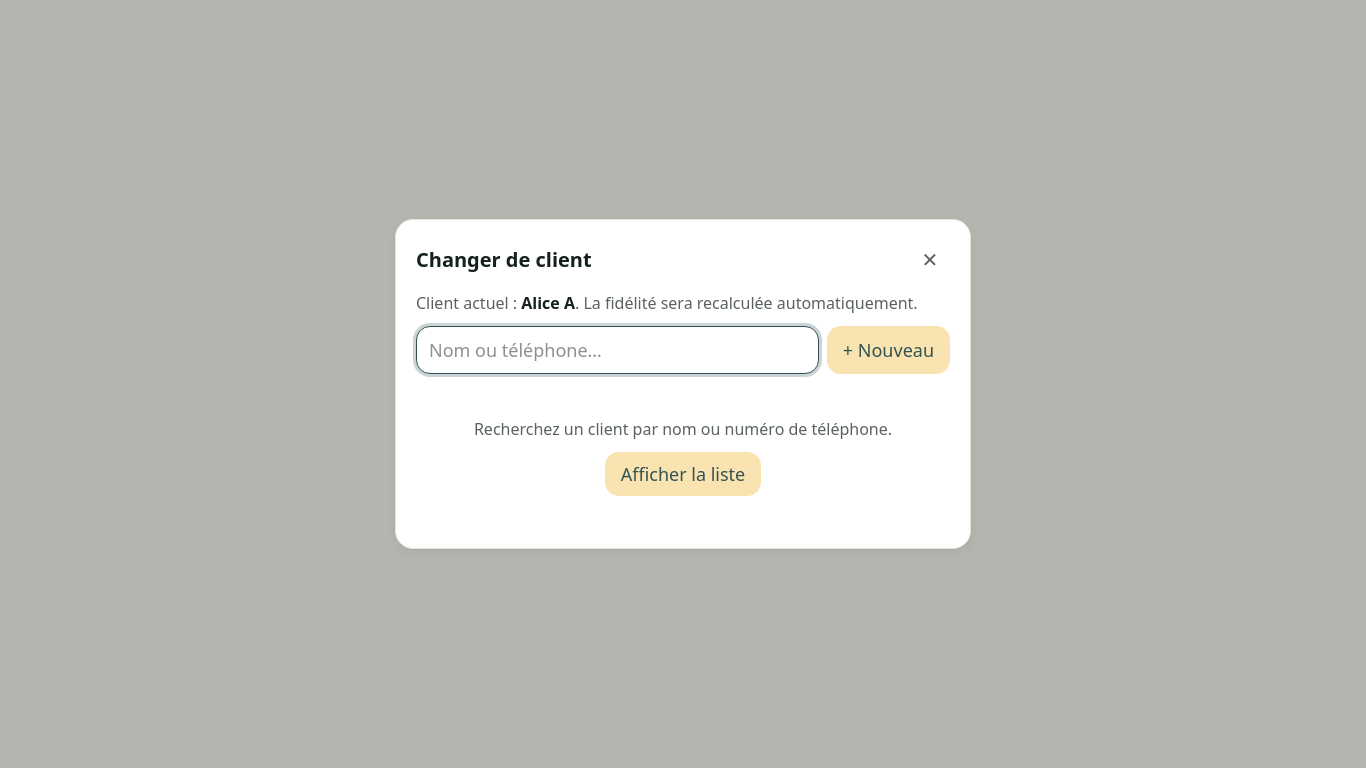
Test: Modale client post-vente (Ma Journée) › affiche un message clair quand une facture bloque le changement de client
The width and height of the screenshot is (1366, 768).
Type "Bob" into the field with placeholder "Nom ou téléphone…".
click(617, 350); type("Bob")  # box x1=416 y1=326 x2=819 y2=374
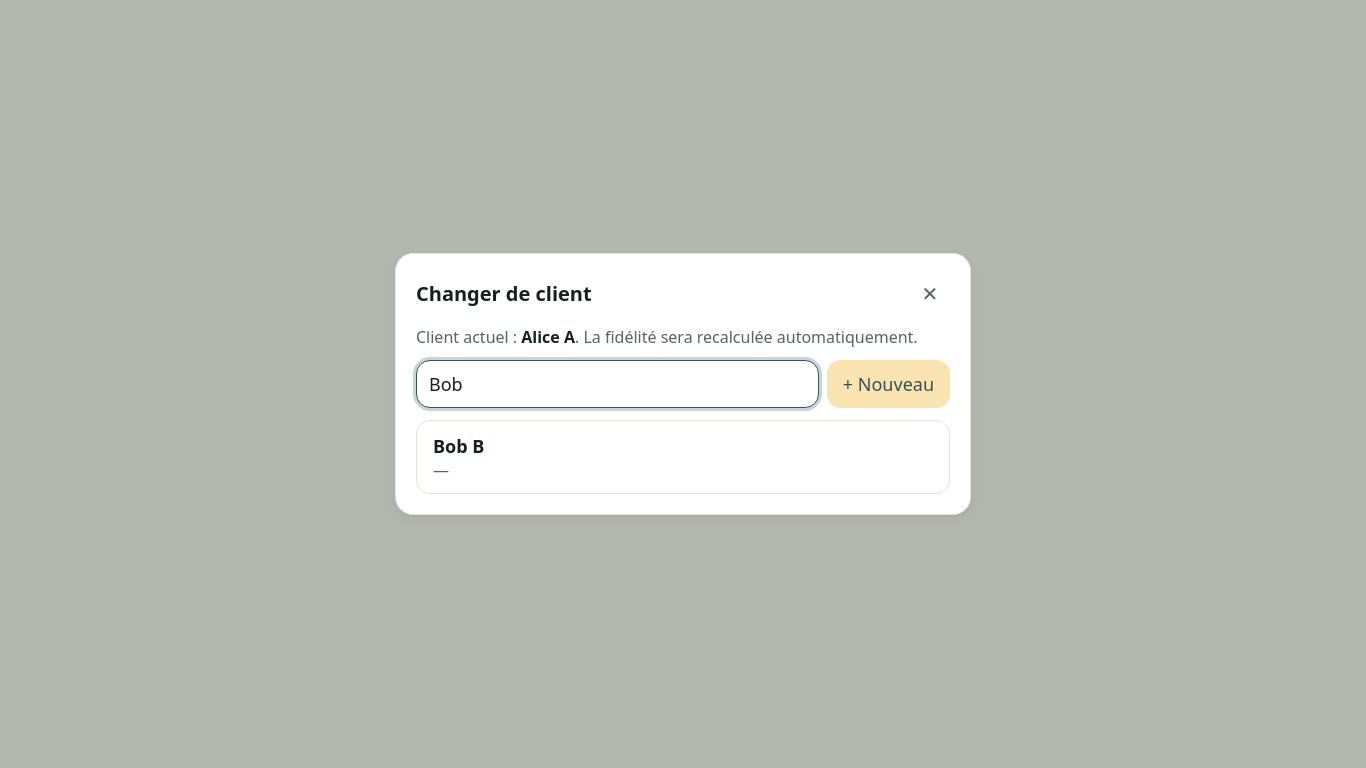
Result: the text "Bob B" is shown
Click the text "Bob B".
click(459, 446)  # box x1=433 y1=434 x2=484 y2=458
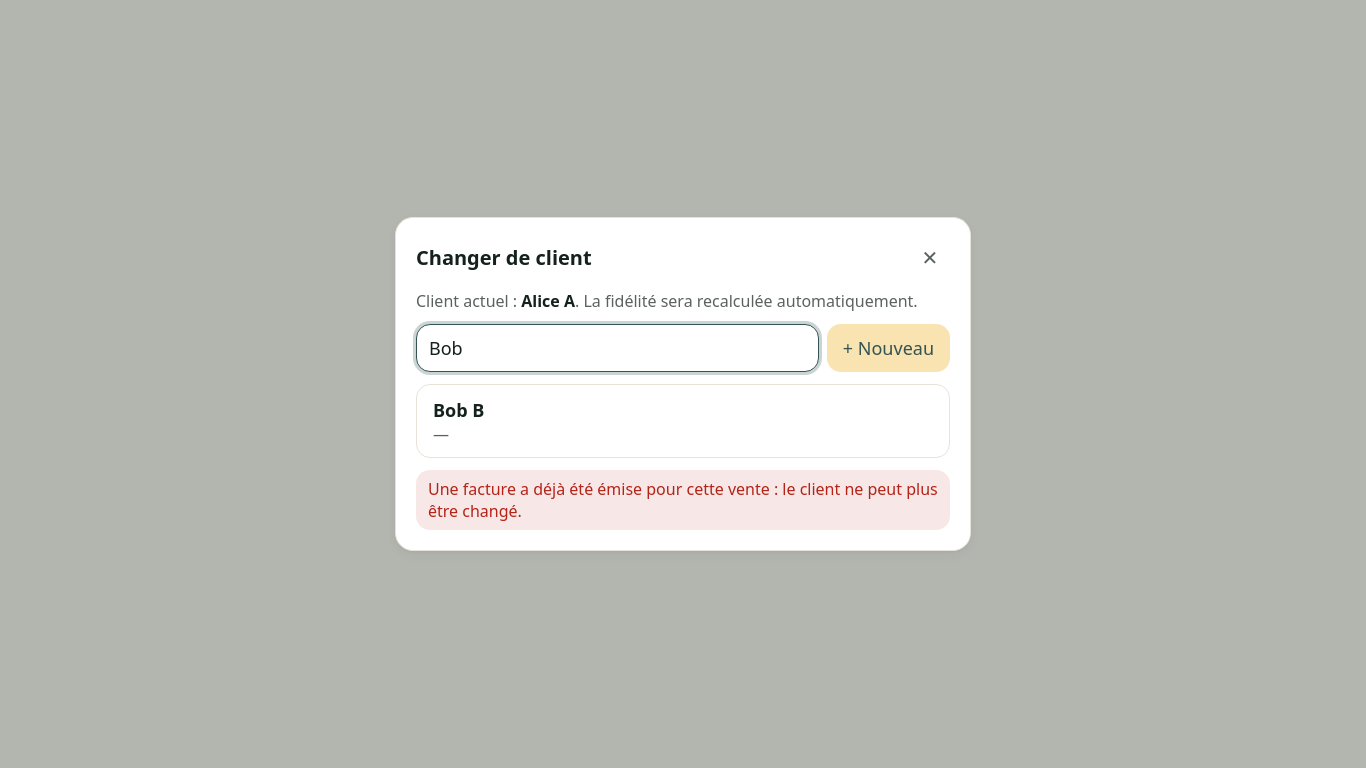
Result: the text "Une facture a déjà été émise pour cette vente : le client ne peut plus être changé." is shown at x1=428 y1=478 x2=938 y2=522
